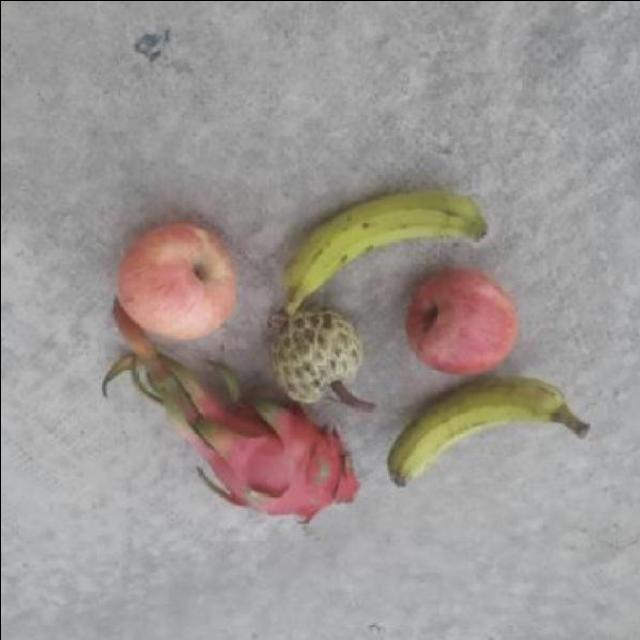apple: (110, 214, 238, 346), (394, 268, 530, 386)
banana: (377, 378, 596, 494), (278, 191, 496, 301)
dragon fruit: (190, 410, 367, 530)
sugar apple: (271, 304, 374, 407)
